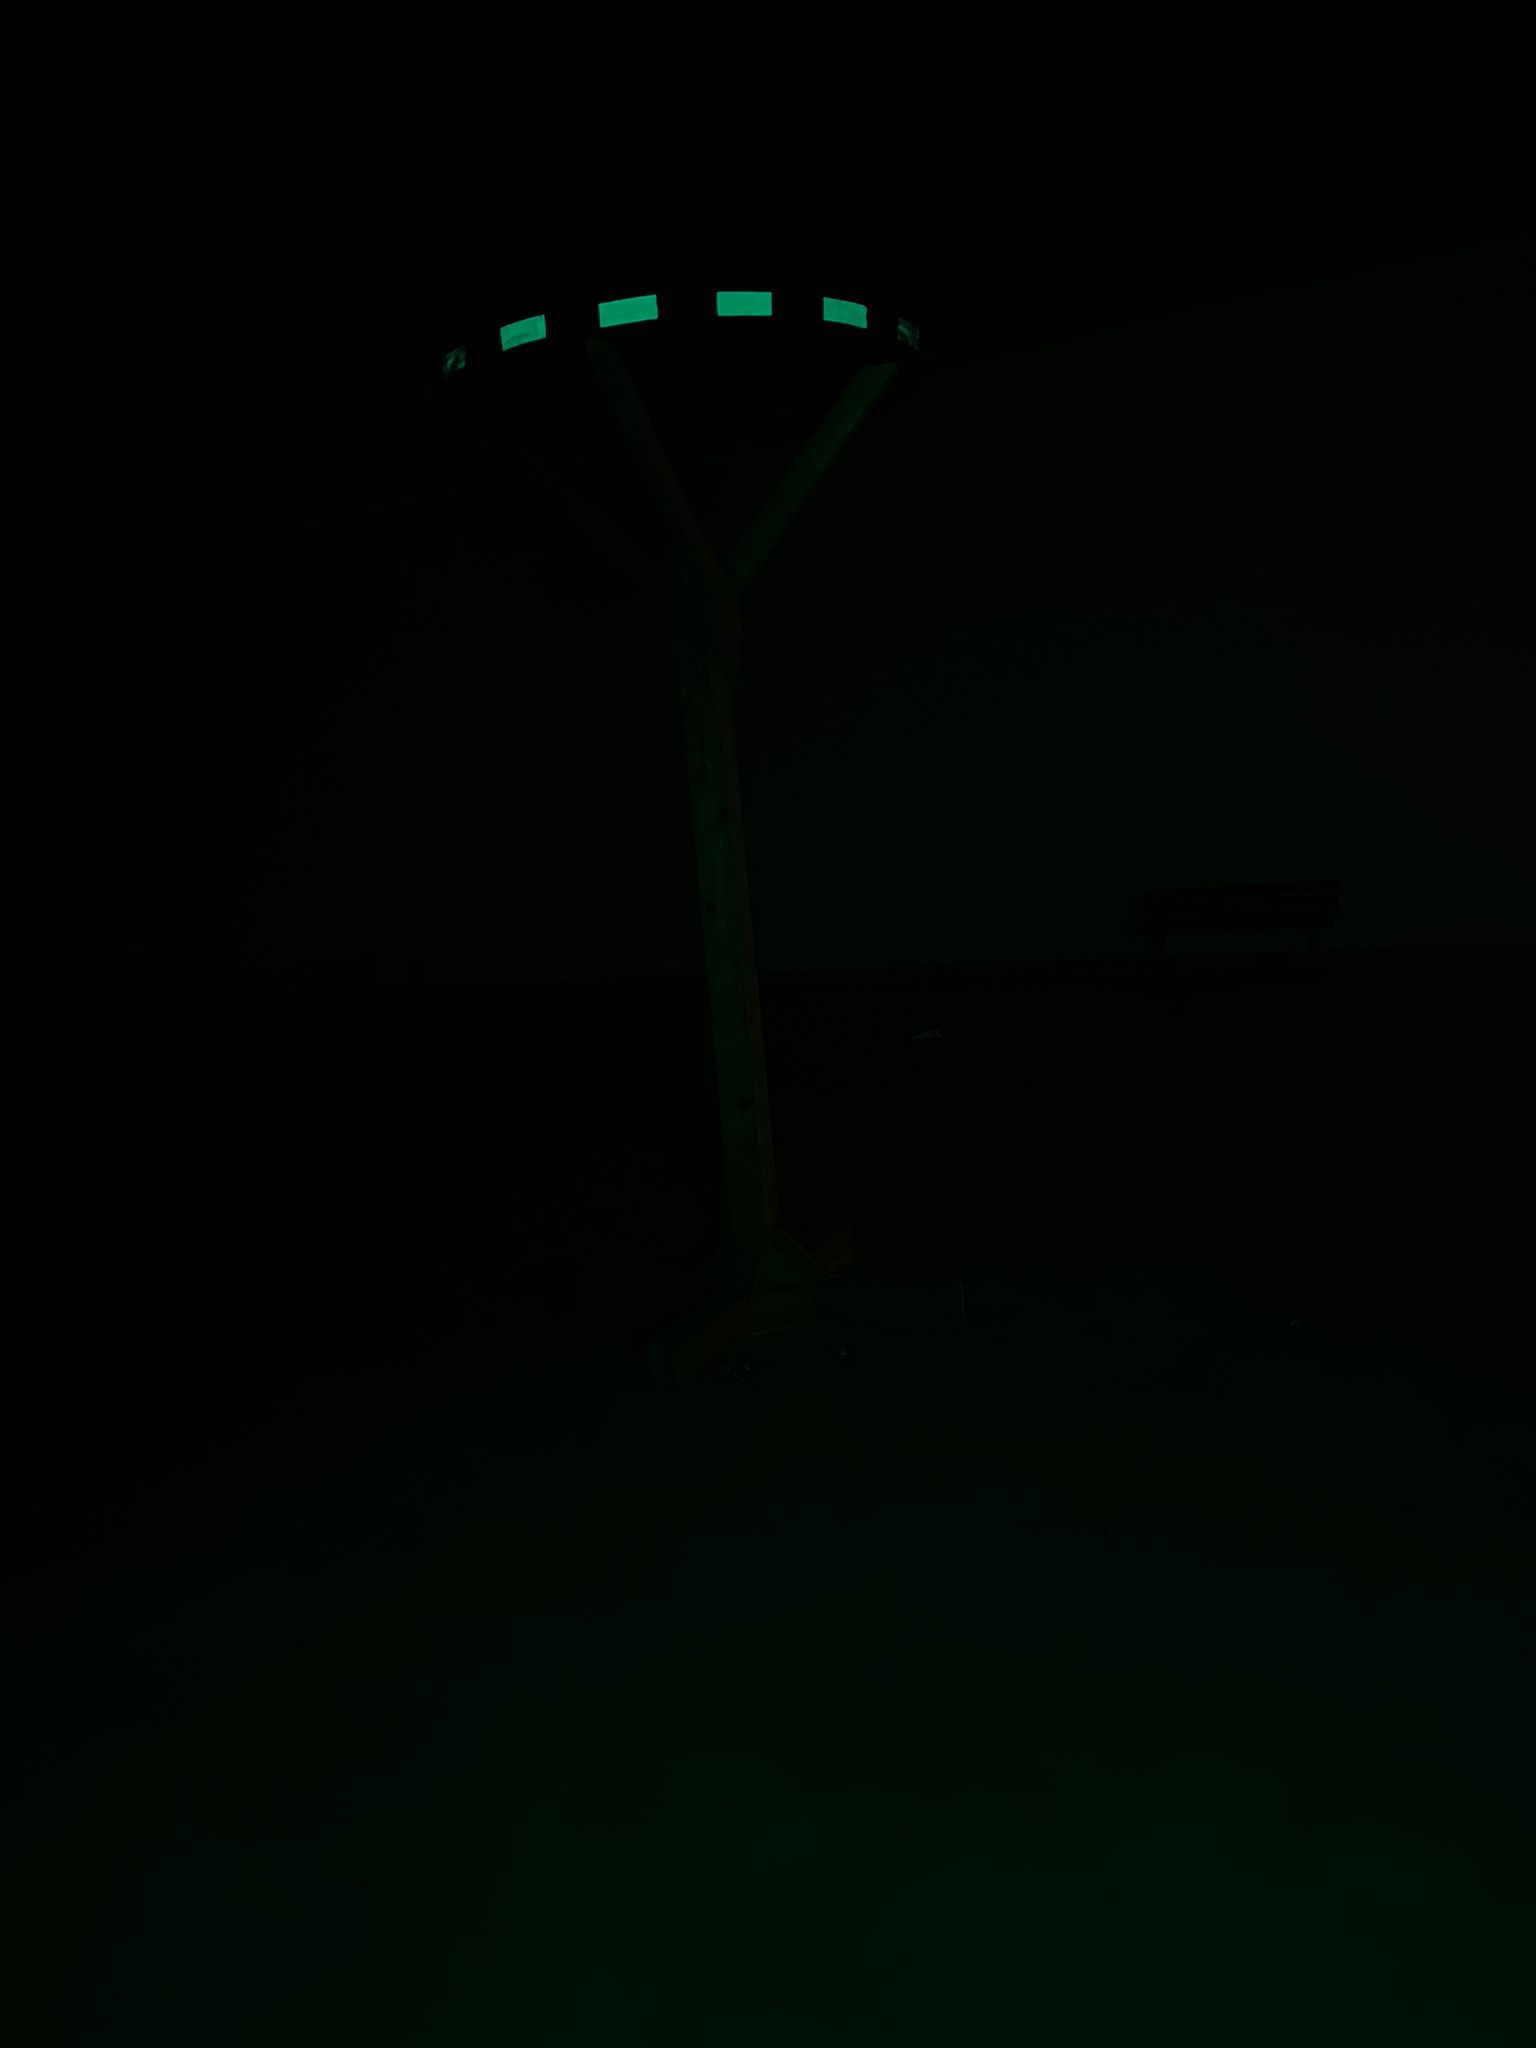hoop: (487, 281, 881, 356)
